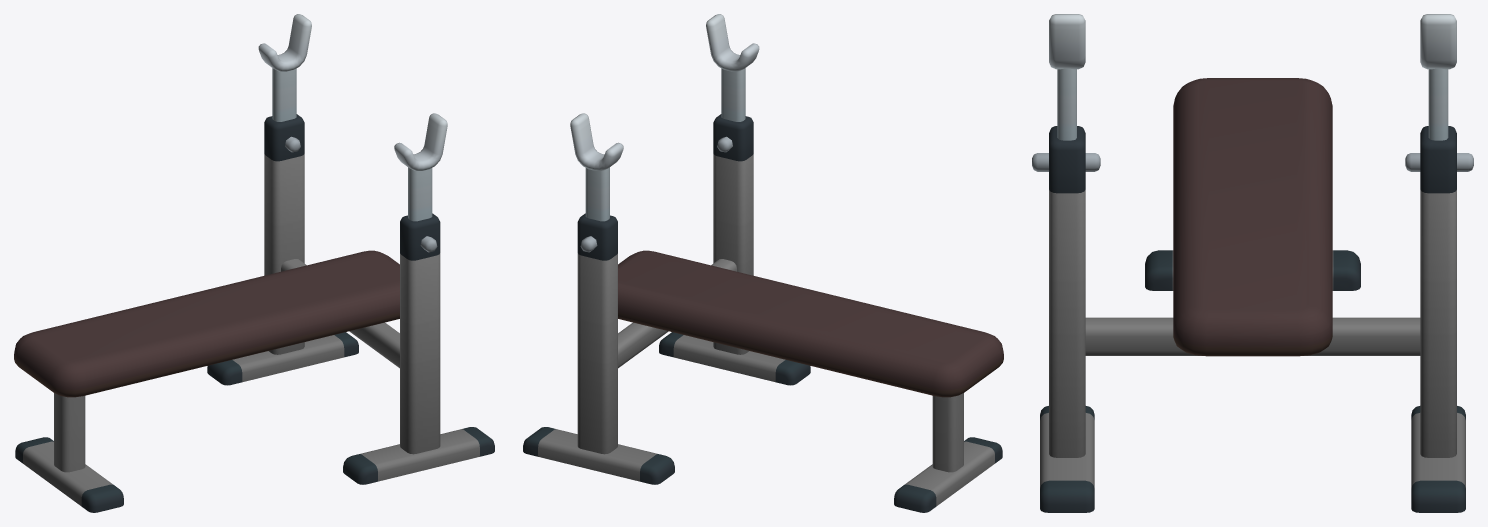
File: BarbellStand_01.glb
3 views of the same model, side by side, from view 1: azimuth 30°, elevation 25°; view 2: azimuth 150°, elevation 25°; view 3: azimuth 270°, elevation 25° (orthographic). The views are drawn at different scales.
Visible parts, largest first — view 1: BarbellStand_01; view 2: BarbellStand_01; view 3: BarbellStand_01.
Boxes of the visible parts, x1,y1,x2,y2 form: BarbellStand_01: (14, 14, 494, 512); BarbellStand_01: (523, 14, 1003, 512); BarbellStand_01: (1032, 14, 1473, 512).
Size of the model in its own units: 1.33 by 1.13 by 0.9691.
1 material, 1 textured.
